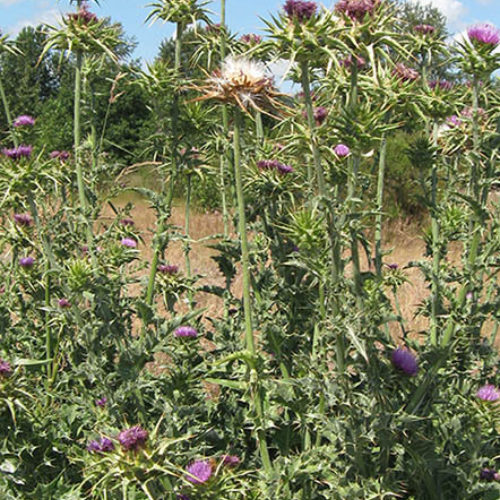thistle: (44, 12, 117, 67), (105, 426, 176, 481), (182, 459, 241, 500), (460, 23, 500, 80), (6, 144, 48, 189), (466, 380, 500, 428), (166, 323, 202, 357), (390, 344, 420, 381), (8, 112, 39, 144), (334, 145, 352, 163)
